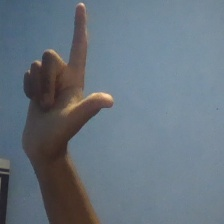L: (20, 1, 116, 157)
